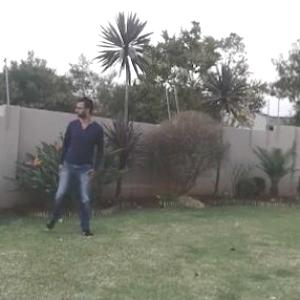follow: (60, 93, 100, 236)
